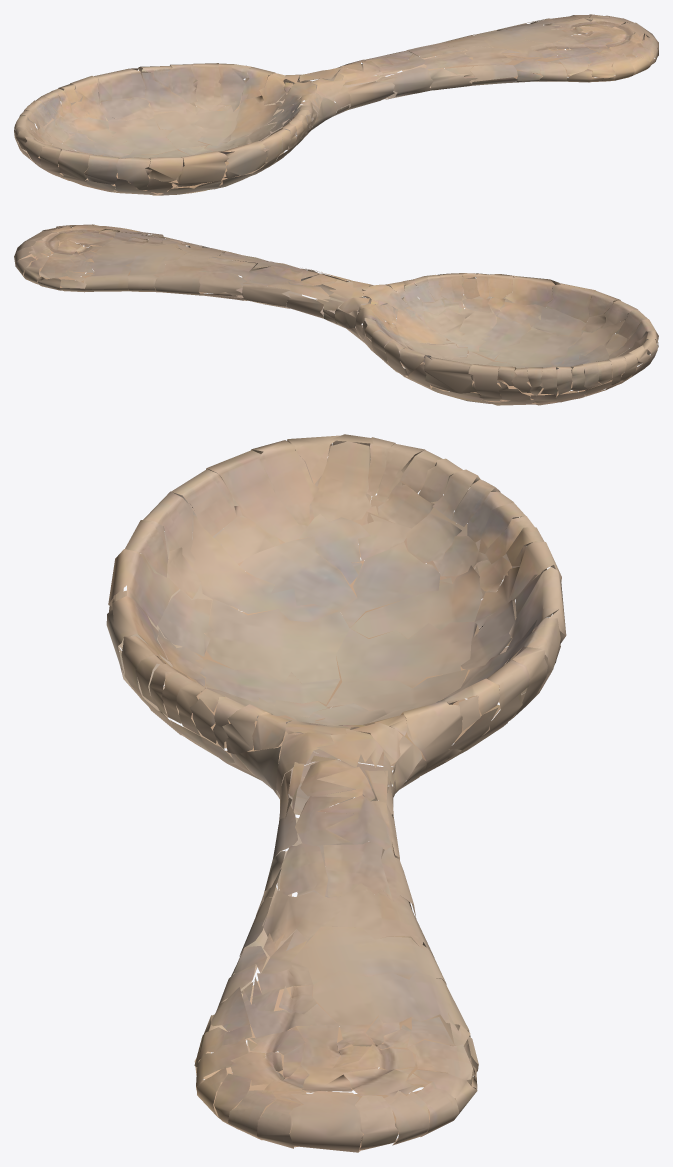
Rendered from silver_spoon.glb.
3 renders of one model, top to bottom at view 1: azimuth 30°, elevation 25°; view 2: azimuth 150°, elevation 25°; view 3: azimuth 270°, elevation 25°, orthographic. The views are drawn at different scales.
Visible parts, largest first — view 1: silver_spoon; view 2: silver_spoon; view 3: silver_spoon.
Part boxes in pixels (left/top/right/bottom): silver_spoon: left=14, top=14, right=658, bottom=195; silver_spoon: left=14, top=224, right=658, bottom=405; silver_spoon: left=106, top=434, right=566, bottom=1152.
Size of the model in its own units: 0.115 by 0.0104 by 0.0365.
1 material, 1 textured.
